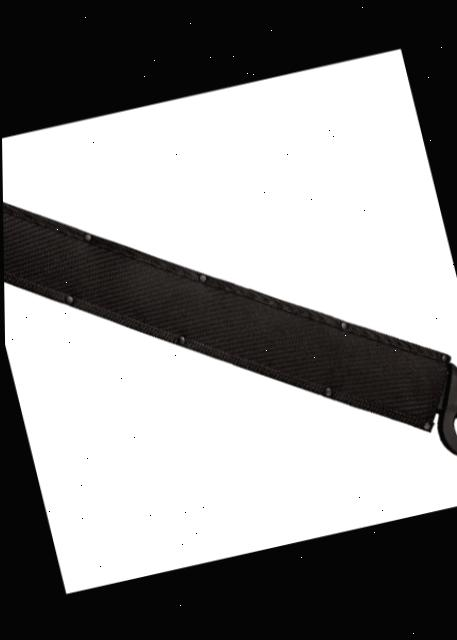long knife: (1, 46, 457, 550)
